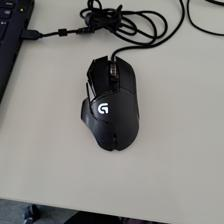mouse: (80, 54, 140, 152)
